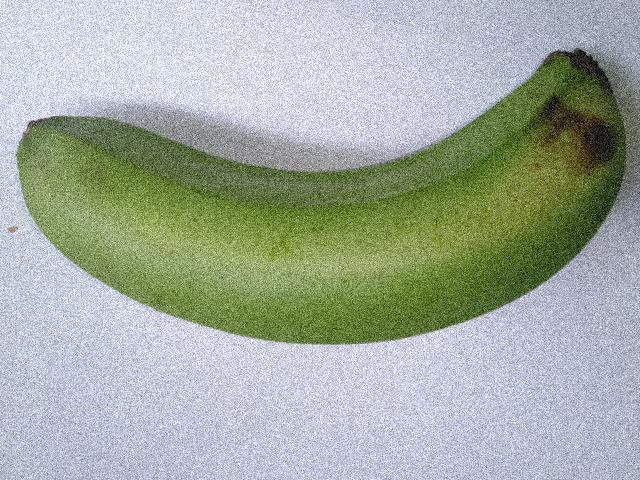freshunripe: (7, 33, 623, 361)
